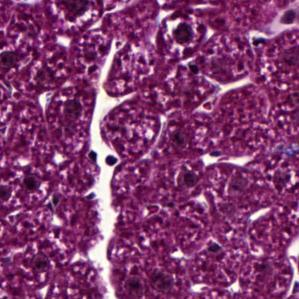inflammation: (164, 16, 214, 57), (173, 163, 205, 195)
